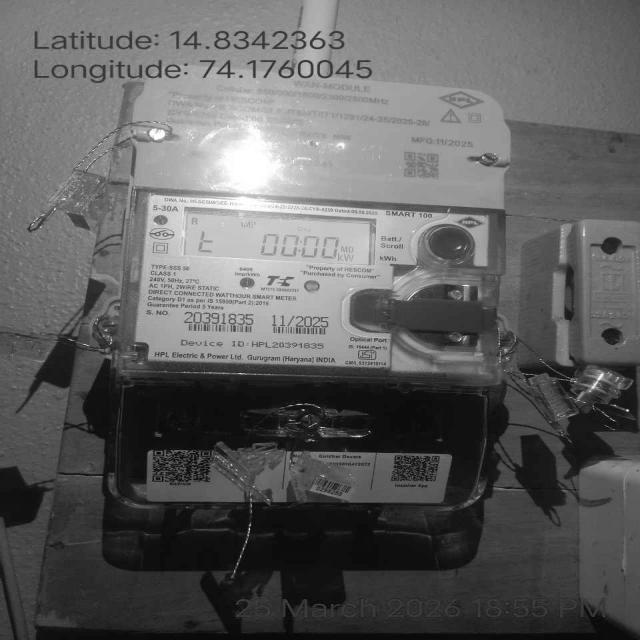meter: (133, 69, 498, 372)
